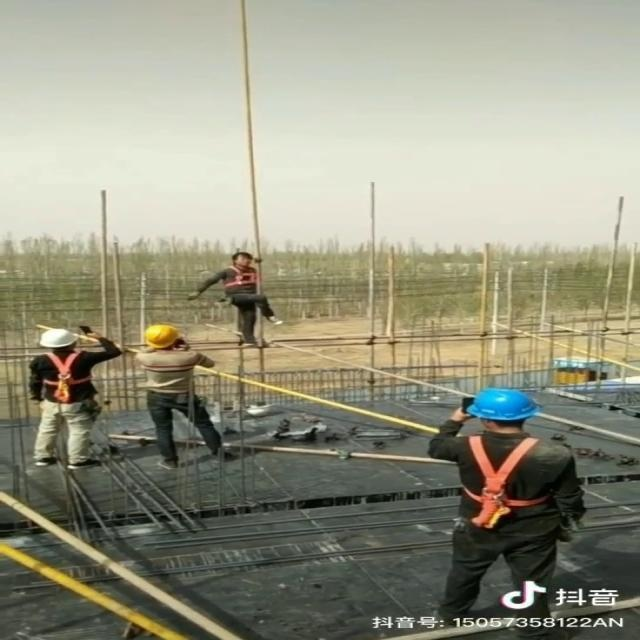Arnes_seguridad: (444, 431, 588, 532), (29, 350, 96, 402), (224, 264, 260, 290)
